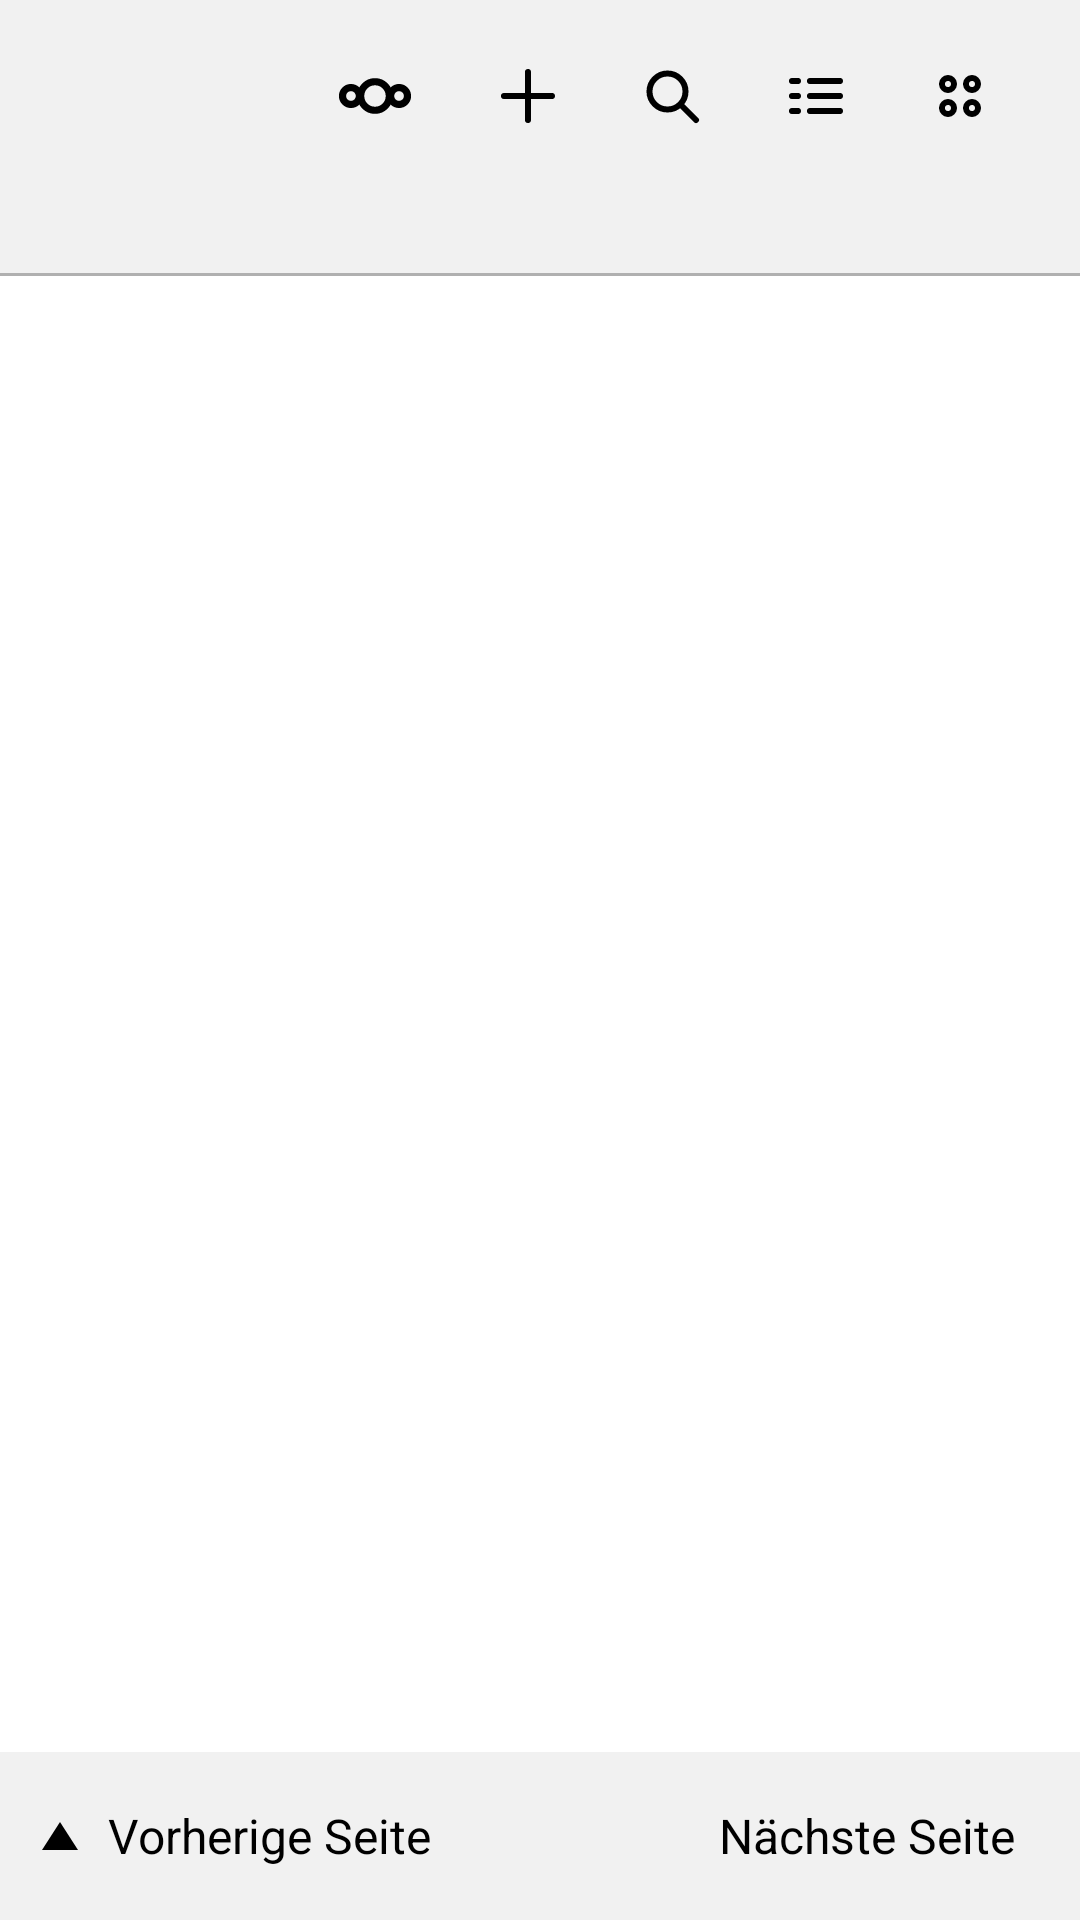

Named icons in this screenshot (1080×1920) and their bounding boxes, (x1, y1, x2, y2):
arrow up: (42, 1822, 78, 1850)
Listenansicht: (789, 78, 843, 114)
Neu: (501, 69, 555, 123)
Suche: (646, 70, 699, 123)
